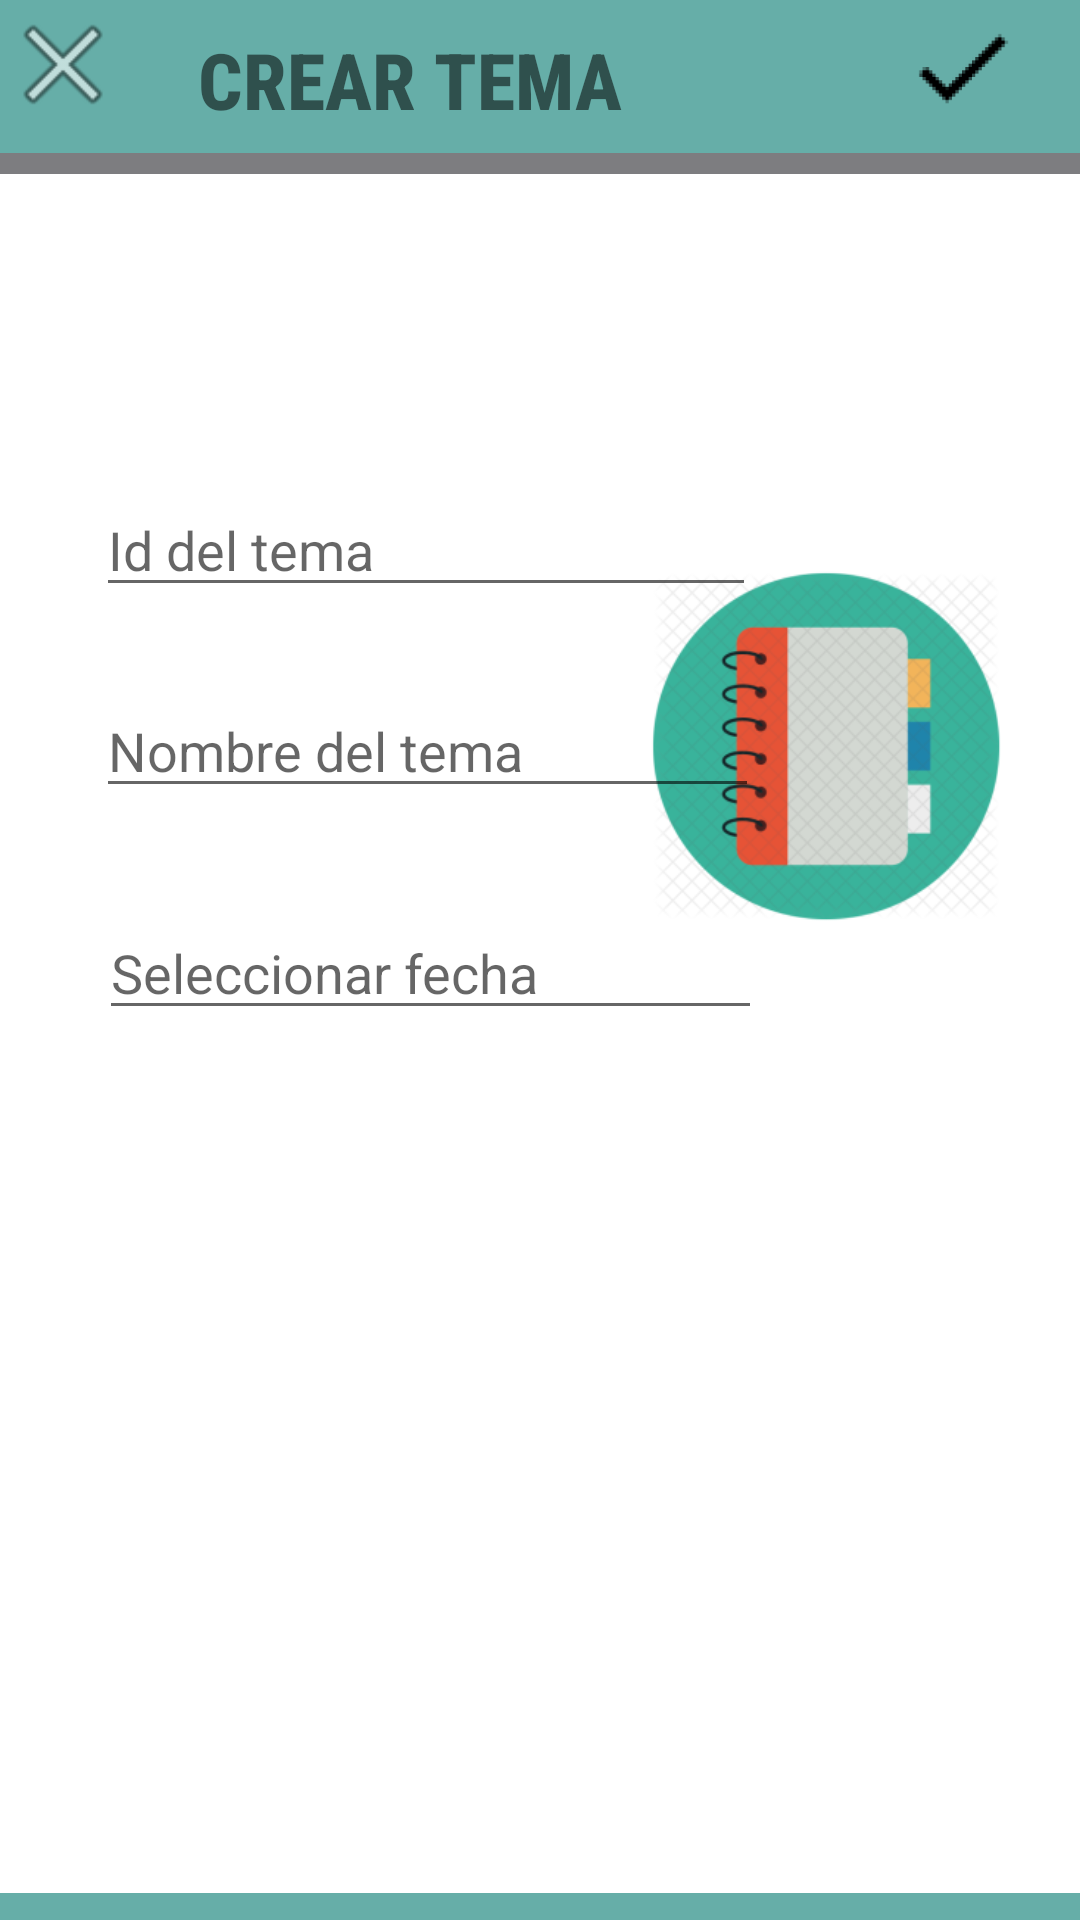

Screen size 1080*1920. Icon name, then its box in pixels as (x1, y1, x2, y2):
close clear cancel: (24, 25, 102, 104)
